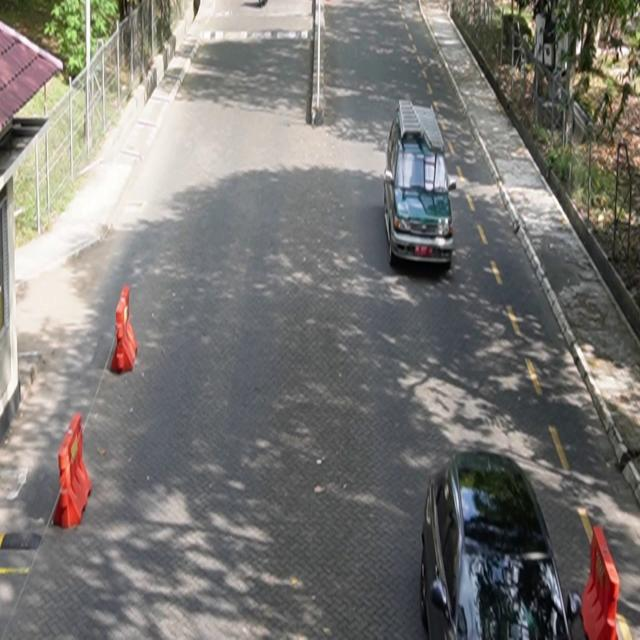car: (420, 450, 634, 640), (384, 99, 457, 270)
